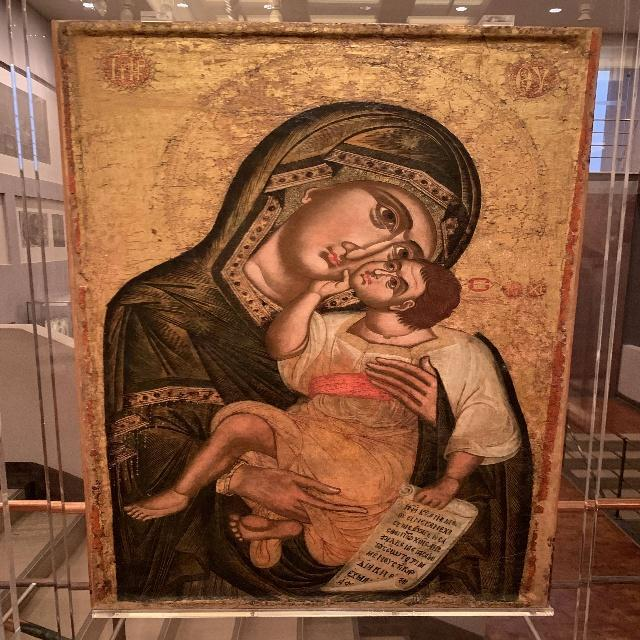aura: (147, 61, 552, 279)
christ_kid: (151, 251, 531, 559)
mary: (90, 46, 539, 599)
scroll: (330, 494, 481, 594)
